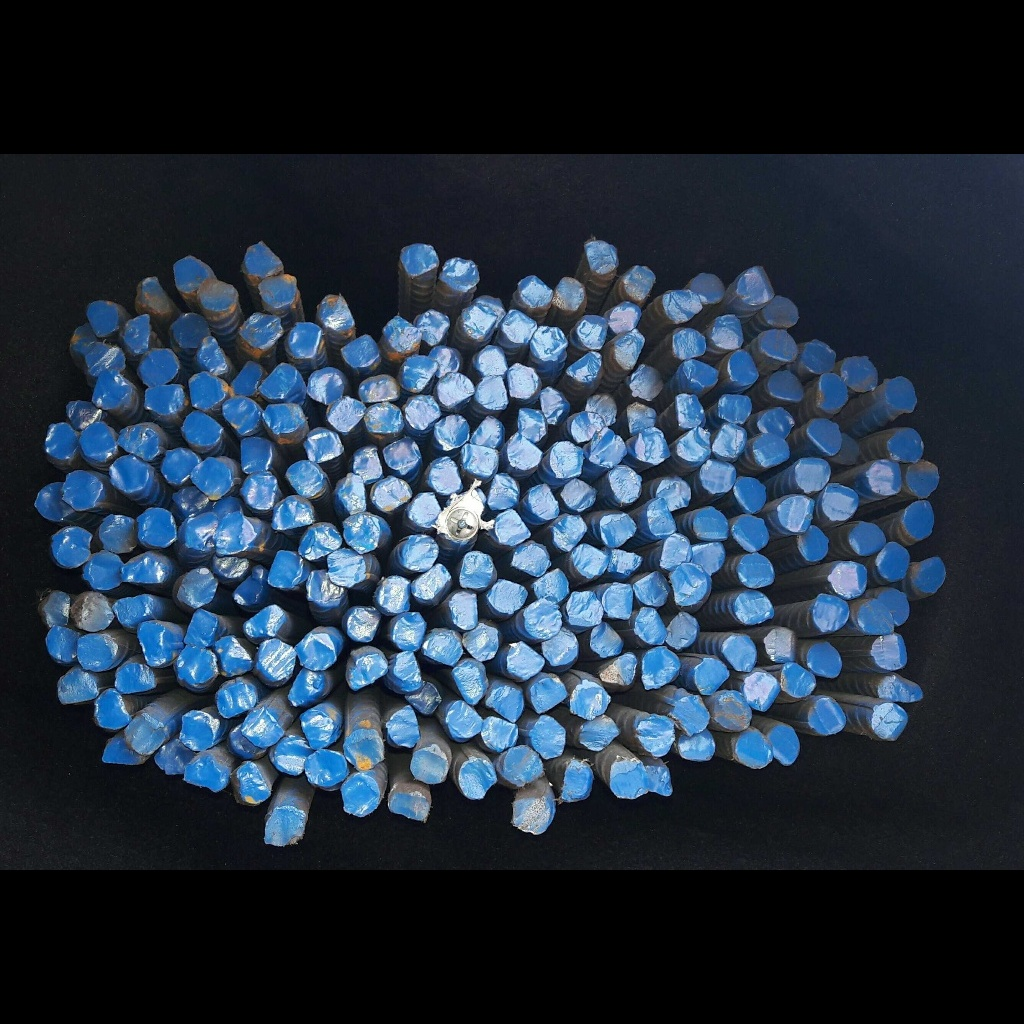dipstick: (214, 513, 256, 557), (669, 565, 712, 606), (635, 713, 675, 757), (265, 805, 305, 849), (231, 762, 271, 806), (340, 775, 382, 816), (138, 505, 179, 547), (173, 647, 217, 686), (178, 712, 220, 751), (458, 757, 496, 800), (94, 687, 132, 730), (254, 641, 294, 681), (215, 636, 254, 677), (63, 470, 102, 511), (97, 514, 138, 553), (76, 631, 115, 672), (506, 540, 549, 577), (54, 669, 97, 706), (531, 715, 567, 759), (523, 600, 562, 640), (819, 482, 860, 520), (299, 524, 341, 561), (642, 646, 678, 689), (89, 373, 132, 409), (51, 527, 94, 563), (71, 591, 114, 627), (609, 756, 644, 800), (453, 661, 487, 706), (735, 267, 774, 306), (126, 715, 165, 754), (347, 653, 387, 691), (721, 632, 758, 673), (674, 694, 710, 736), (447, 700, 483, 742), (171, 254, 213, 290), (626, 428, 669, 463), (840, 354, 878, 393), (714, 691, 752, 730), (425, 627, 464, 665), (288, 670, 326, 709), (387, 652, 424, 692), (327, 549, 367, 586), (184, 756, 226, 791), (569, 681, 612, 715), (734, 729, 772, 767), (262, 363, 300, 401), (111, 593, 149, 631), (812, 594, 849, 633), (509, 797, 548, 834), (373, 574, 410, 613), (86, 551, 123, 590), (809, 697, 845, 737), (457, 443, 497, 479), (344, 729, 384, 765), (343, 514, 379, 554), (370, 477, 410, 513), (241, 241, 281, 277), (222, 397, 262, 433), (136, 350, 176, 386), (732, 590, 773, 625), (503, 748, 544, 783), (386, 708, 421, 749), (579, 715, 621, 749), (542, 629, 580, 666), (267, 551, 304, 589), (179, 570, 217, 607), (43, 628, 81, 665), (758, 325, 797, 361), (565, 591, 604, 627), (606, 464, 642, 503), (389, 788, 428, 824), (306, 750, 345, 786), (460, 552, 495, 592), (263, 402, 304, 436), (102, 735, 144, 768), (121, 555, 167, 585), (142, 384, 185, 416), (887, 425, 924, 462), (829, 561, 867, 597), (599, 511, 637, 547), (506, 643, 542, 681), (410, 747, 448, 783), (299, 711, 337, 747), (244, 711, 282, 747), (731, 515, 770, 550), (442, 506, 481, 541), (562, 758, 593, 802), (137, 622, 168, 666), (808, 641, 842, 681), (635, 607, 668, 648), (463, 624, 496, 665), (413, 566, 454, 599), (84, 343, 126, 375), (554, 513, 590, 550), (383, 316, 419, 353), (271, 738, 308, 774), (287, 462, 324, 498), (193, 459, 230, 495), (181, 515, 217, 552), (135, 277, 172, 313), (487, 579, 525, 614), (428, 457, 463, 495), (884, 376, 918, 415), (869, 459, 903, 498), (492, 511, 531, 545), (342, 336, 381, 370), (110, 457, 149, 491), (880, 672, 924, 702), (768, 726, 801, 766), (117, 425, 158, 457), (240, 314, 282, 345), (693, 657, 729, 693), (590, 429, 626, 465), (399, 354, 435, 390), (286, 324, 322, 360), (35, 484, 71, 520), (778, 495, 813, 532), (675, 427, 712, 462), (319, 295, 354, 332), (243, 473, 278, 510), (173, 312, 210, 347), (85, 299, 120, 336), (36, 590, 71, 627), (154, 741, 191, 776), (871, 702, 905, 740), (744, 671, 778, 709), (663, 288, 701, 322), (442, 257, 480, 291), (415, 307, 449, 345), (529, 678, 567, 712), (336, 473, 369, 512), (766, 370, 806, 402), (751, 434, 791, 466), (297, 636, 337, 668), (274, 498, 314, 530), (604, 582, 635, 623), (163, 445, 194, 486), (383, 439, 419, 474), (260, 272, 296, 307), (800, 339, 837, 373), (644, 499, 678, 536), (308, 368, 342, 405), (904, 500, 937, 538), (874, 632, 907, 670), (737, 553, 775, 586), (324, 399, 363, 431), (303, 429, 342, 461), (197, 335, 229, 374), (399, 243, 439, 274), (216, 683, 256, 714), (795, 456, 830, 491), (633, 572, 668, 607), (239, 435, 274, 470), (585, 238, 619, 274), (458, 304, 494, 338), (506, 434, 542, 468), (528, 482, 562, 518), (488, 686, 524, 720), (66, 397, 102, 431), (436, 411, 469, 448), (407, 491, 440, 528), (394, 613, 427, 650), (198, 278, 235, 311), (508, 362, 540, 400), (642, 760, 673, 799), (694, 506, 729, 540), (548, 442, 583, 476), (438, 372, 473, 406), (188, 373, 223, 407), (807, 417, 840, 453), (781, 662, 817, 695), (531, 326, 567, 359), (472, 415, 508, 448), (183, 412, 219, 445), (682, 360, 719, 392), (306, 570, 343, 602), (876, 541, 907, 579), (849, 523, 887, 554), (879, 587, 910, 625), (184, 610, 215, 648), (819, 374, 849, 413), (728, 349, 758, 388), (676, 732, 715, 762), (364, 404, 403, 434), (119, 317, 149, 356), (244, 607, 284, 636), (760, 404, 794, 438), (573, 544, 607, 578), (862, 600, 895, 635), (604, 545, 639, 578), (584, 390, 617, 425), (482, 716, 517, 749), (906, 461, 938, 497), (667, 613, 699, 649), (660, 532, 692, 568), (673, 392, 709, 424), (517, 275, 553, 307), (474, 375, 510, 407), (405, 395, 441, 427), (447, 591, 479, 627), (209, 555, 250, 583), (602, 654, 635, 688), (487, 476, 520, 510), (79, 423, 112, 457), (688, 271, 723, 303), (691, 542, 723, 577), (589, 623, 624, 655), (233, 573, 268, 605), (914, 557, 945, 593), (426, 345, 462, 376), (403, 536, 439, 567), (799, 524, 829, 561), (703, 458, 733, 495), (578, 314, 608, 351), (560, 479, 597, 509), (737, 475, 766, 513), (230, 726, 263, 759), (765, 293, 797, 327), (713, 425, 744, 460), (632, 365, 663, 400), (352, 445, 382, 481), (658, 477, 690, 510), (671, 329, 707, 358), (362, 375, 402, 401), (114, 666, 154, 692), (537, 387, 565, 424), (406, 684, 443, 712), (174, 487, 211, 515), (569, 352, 601, 384), (712, 314, 743, 347), (535, 572, 568, 603), (346, 609, 379, 640), (623, 266, 653, 300), (47, 424, 76, 459), (765, 628, 796, 659), (517, 407, 546, 440), (234, 360, 260, 396), (504, 309, 533, 341), (556, 277, 584, 310), (572, 412, 604, 440), (616, 331, 640, 368), (624, 401, 658, 427), (478, 345, 507, 375), (475, 294, 506, 322), (719, 393, 747, 422), (609, 303, 640, 329), (837, 432, 862, 463), (70, 326, 97, 354), (210, 497, 242, 518)
